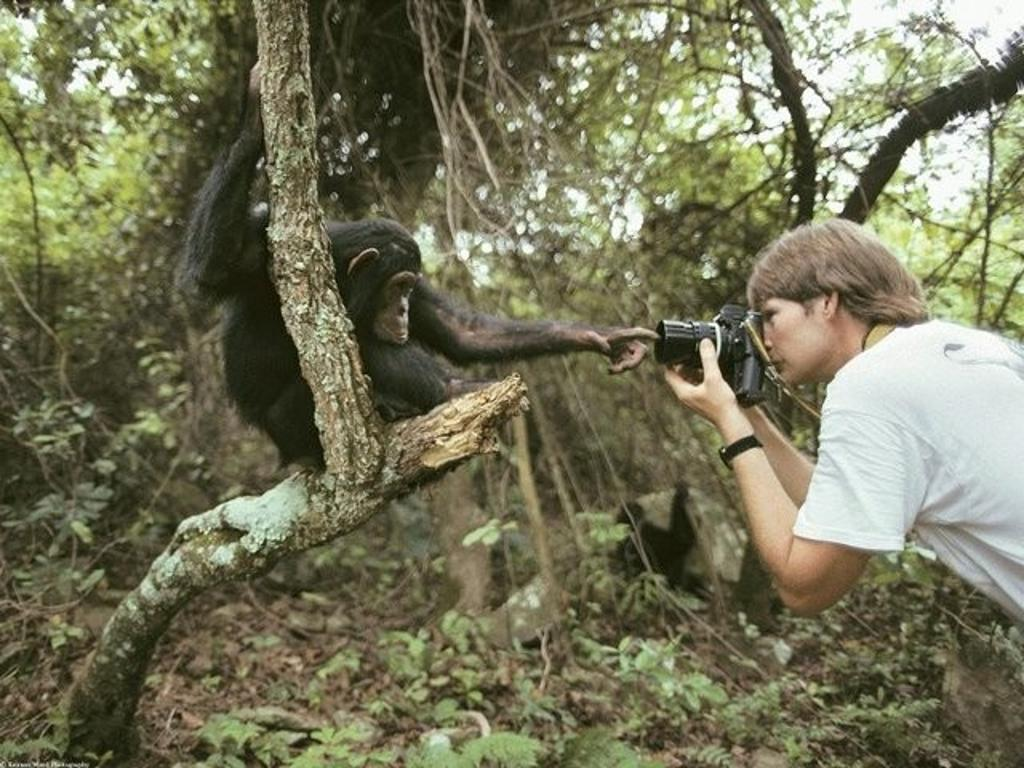face: (754, 290, 830, 380)
